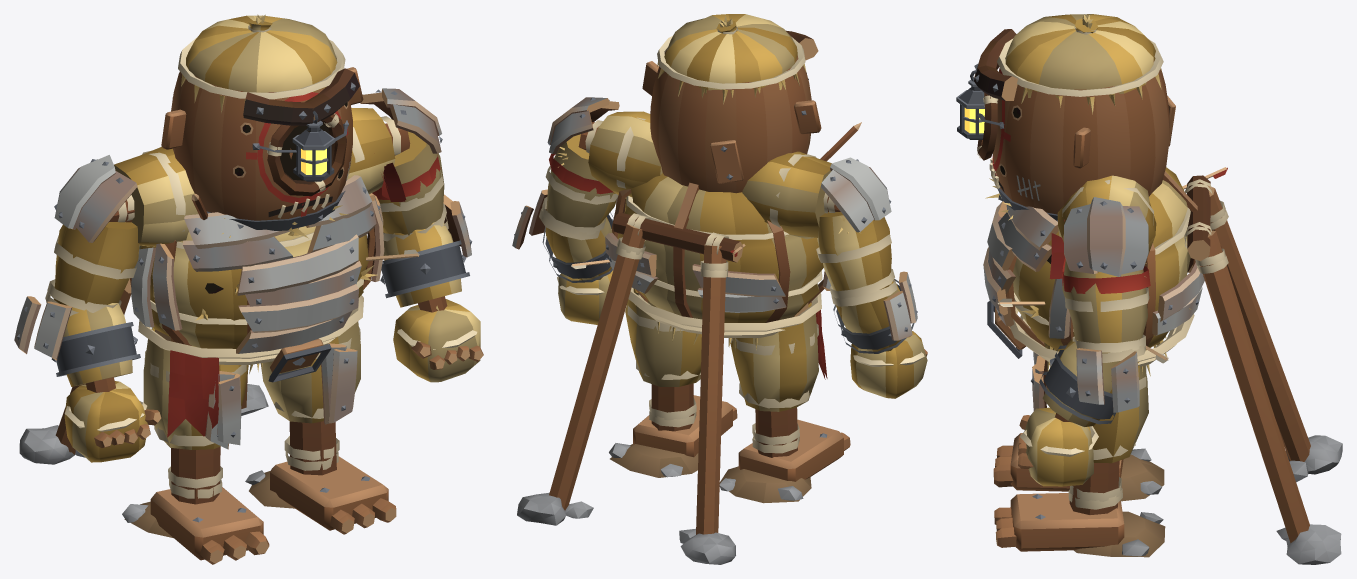
File: muster_effigy.glb
3 views of the same model, side by side, from view 1: azimuth 30°, elevation 25°; view 2: azimuth 150°, elevation 25°; view 3: azimuth 270°, elevation 25° (orthographic). The views are drawn at different scales.
Visible parts, largest first — view 1: EffigyBody, Plank_02, Plank_03, Plank_00, Plank_06, Plank_04, Plank_01, Plank_09, Plank_07, Plank_10, Plank_08, Lantern (+2 smaller); view 2: EffigyBody, Plank_06, Plank_12, Plank_07, Plank_10, Plank_13, Plank_11; view 3: EffigyBody, Plank_07, Plank_11, Plank_01, Plank_13, Plank_02, Lantern, Plank_05, Plank_03, Plank_09.
Part boxes in pixels (bbox=[...]): EffigyBody: bbox=[19, 14, 483, 564]; Plank_02: bbox=[237, 234, 361, 306]; Plank_03: bbox=[236, 284, 358, 353]; Plank_00: bbox=[182, 212, 298, 271]; Plank_06: bbox=[54, 155, 137, 242]; Plank_04: bbox=[131, 243, 182, 330]; Plank_01: bbox=[306, 175, 376, 253]; Plank_09: bbox=[320, 343, 357, 424]; Plank_07: bbox=[360, 88, 442, 153]; Plank_10: bbox=[14, 296, 72, 360]; Plank_08: bbox=[205, 371, 241, 449]; Lantern: bbox=[252, 111, 348, 181]; EffigyBody: bbox=[517, 14, 927, 564]; Plank_06: bbox=[821, 157, 891, 232]; Plank_12: bbox=[692, 264, 786, 312]; Plank_07: bbox=[547, 97, 619, 154]; Plank_10: bbox=[883, 271, 917, 340]; Plank_13: bbox=[605, 233, 658, 293]; Plank_11: bbox=[512, 189, 547, 249]; EffigyBody: bbox=[974, 14, 1342, 564]; Plank_07: bbox=[1064, 197, 1148, 276]; Plank_11: bbox=[1076, 348, 1139, 412]; Plank_01: bbox=[998, 205, 1058, 271]; Plank_13: bbox=[1152, 262, 1204, 335]; Plank_02: bbox=[987, 201, 1015, 293]; Lantern: bbox=[956, 69, 1004, 139]; Plank_05: bbox=[1048, 278, 1071, 338]; Plank_03: bbox=[983, 247, 1013, 326]; Plank_09: bbox=[1031, 355, 1046, 411].
Bounding box in the file's own units: 6.3 × 6.72 × 4.78.
